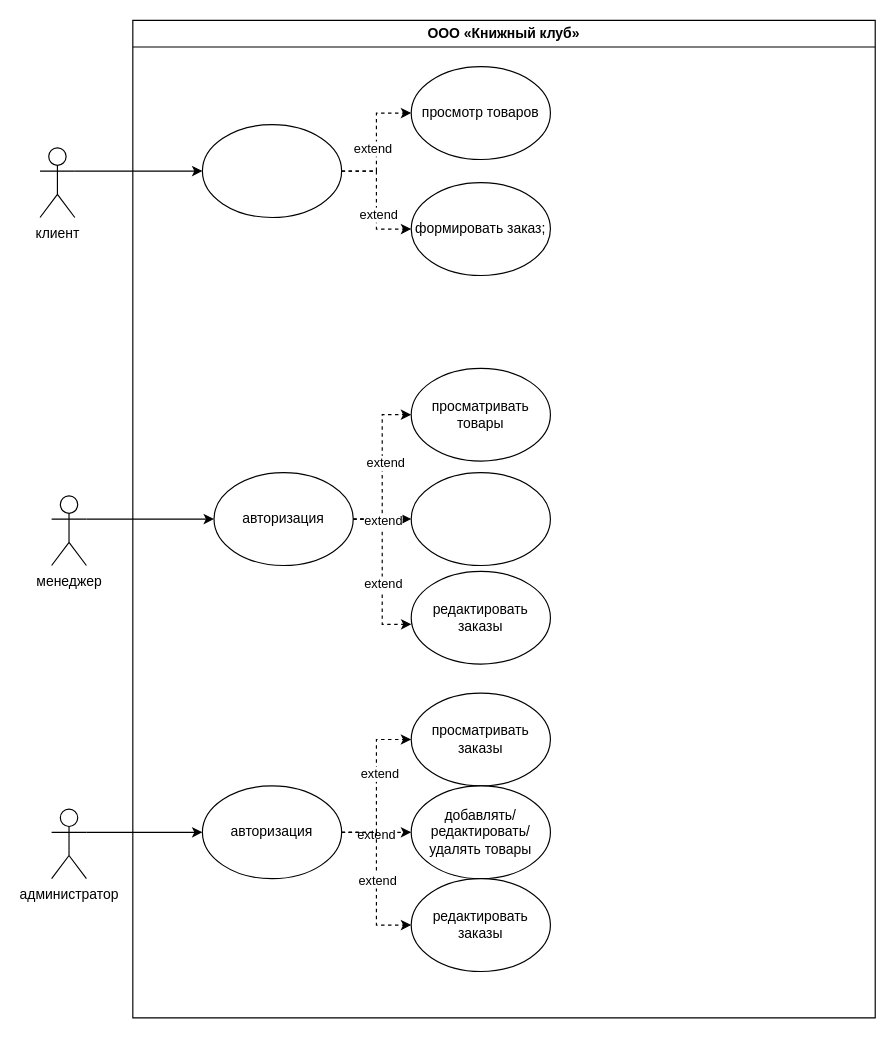
The diagram is 896 pixels wide and 1038 high, and some of its shapes have lost their labels. Each missing label, with the centre of its shape:
"авторизация/ не авторизоваться" belongs at [271,170].
"формировать заказы" belongs at [480,519].
